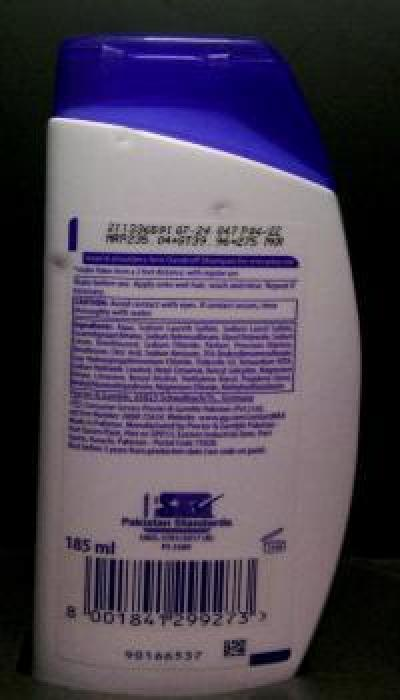dent_marg: (200, 191, 238, 219), (45, 244, 69, 286), (107, 129, 143, 153)
